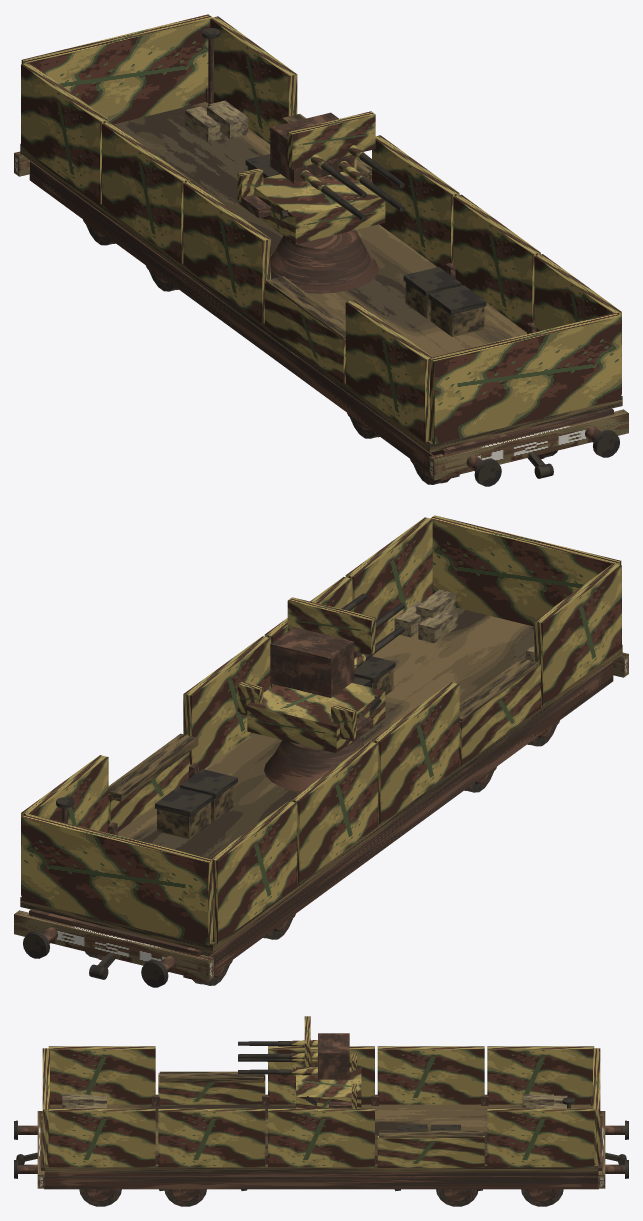
The model's file is flakwagen-own.glb.
3 views of the same model, one above another, from view 1: azimuth 30°, elevation 25°; view 2: azimuth 150°, elevation 25°; view 3: azimuth 270°, elevation 25° (orthographic). The views are drawn at different scales.
Parts seen in each view (by area): view 1: PanelArmour, WagonFrame, Gun, MountAndSeats, StowageAndBrake, Turntable, BogieFront; view 2: PanelArmour, WagonFrame, Gun, StowageAndBrake, MountAndSeats, Turntable, BogieRear; view 3: PanelArmour, WagonFrame, Gun, MountAndSeats, StowageAndBrake, BogieFront, BogieRear.
Part boxes in pixels (x1,y1,x2,y2): PanelArmour: (21, 14, 621, 444); WagonFrame: (14, 102, 628, 486); Gun: (270, 111, 404, 221); MountAndSeats: (237, 156, 385, 244); StowageAndBrake: (185, 28, 486, 336); Turntable: (271, 229, 378, 293); BogieFront: (347, 413, 557, 484); PanelArmour: (21, 515, 621, 945); WagonFrame: (14, 607, 628, 987); Gun: (270, 593, 404, 697); StowageAndBrake: (56, 589, 534, 838); MountAndSeats: (237, 682, 385, 753); Turntable: (264, 737, 363, 792); BogieRear: (85, 914, 295, 985); PanelArmour: (42, 1046, 600, 1167); WagonFrame: (14, 1104, 628, 1191); Gun: (238, 1016, 349, 1079); MountAndSeats: (296, 1053, 361, 1108); StowageAndBrake: (62, 1094, 575, 1130); BogieFront: (79, 1189, 206, 1206); BogieRear: (436, 1189, 563, 1206).
Size of what is drawn, in the model's own units: 3 by 3.4 by 12.
1 material, 1 textured.
